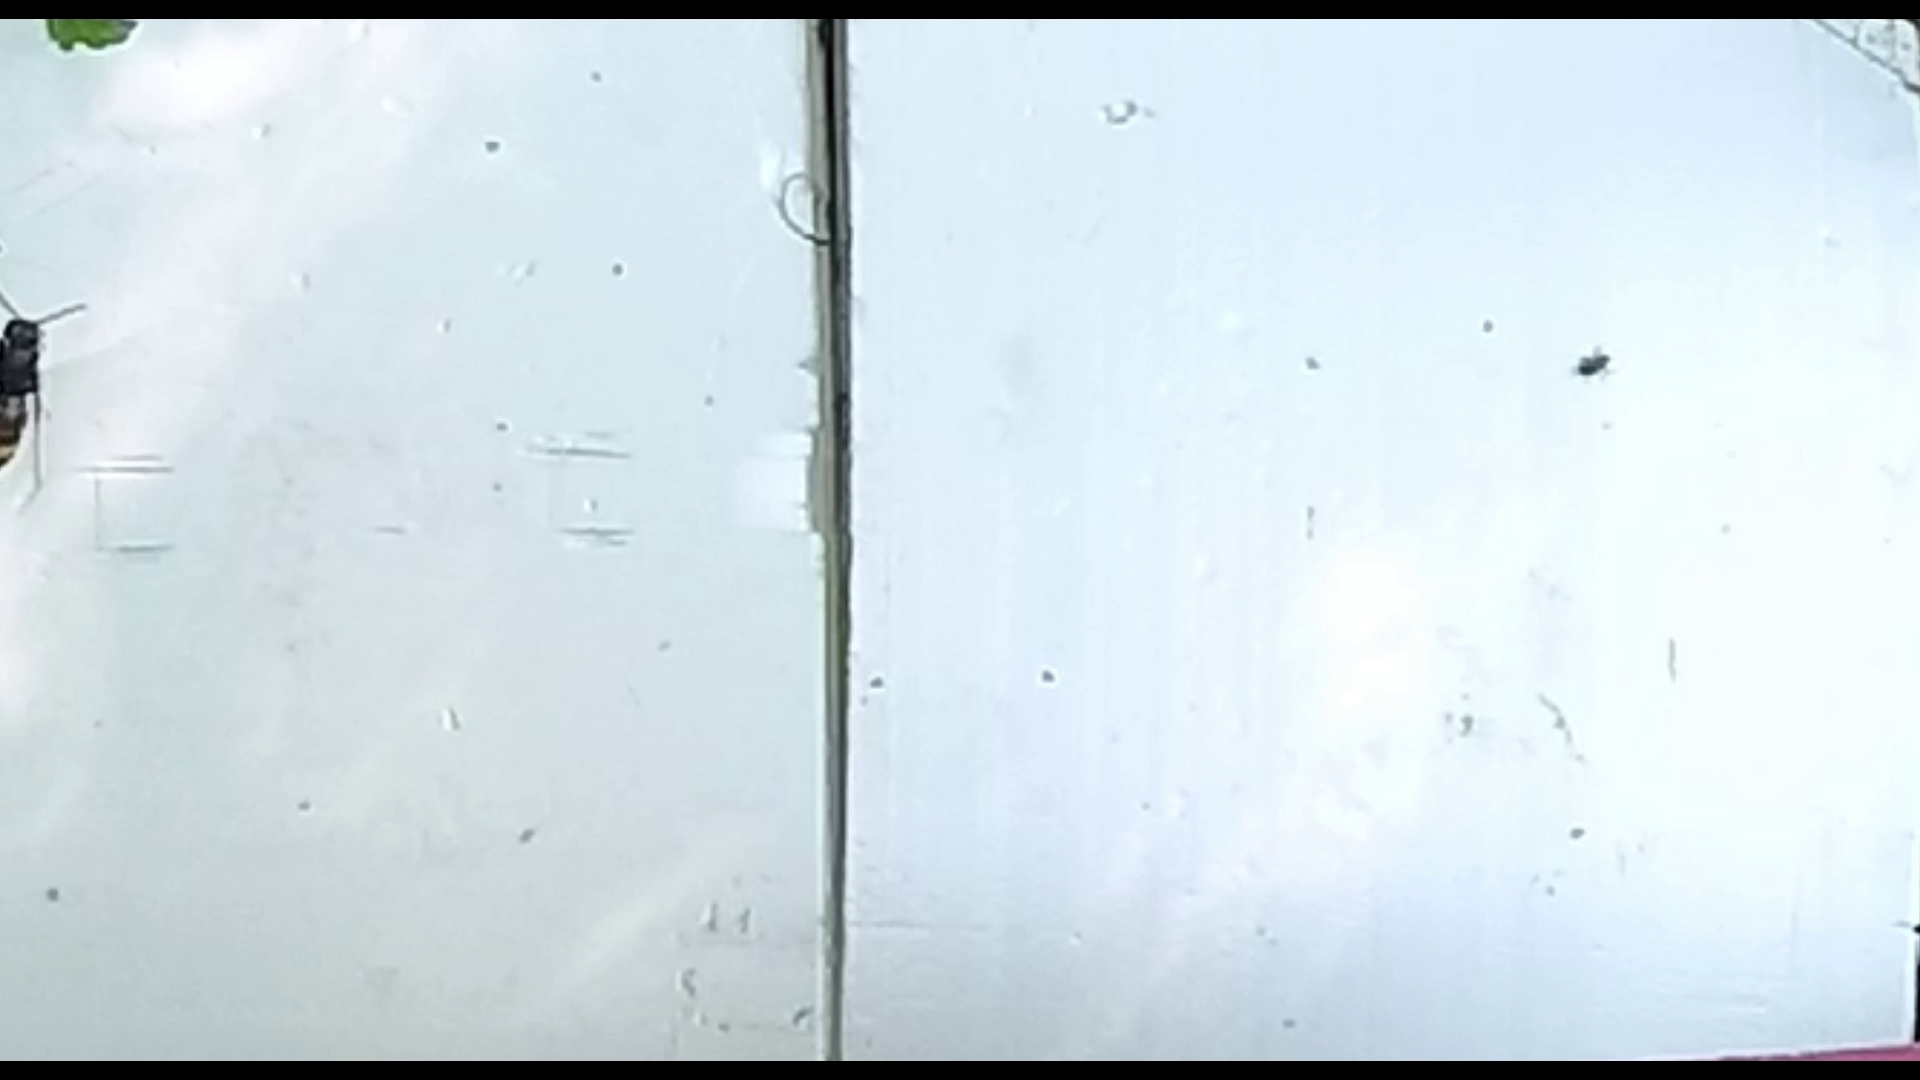Asian_hornets: (0, 285, 102, 509)
